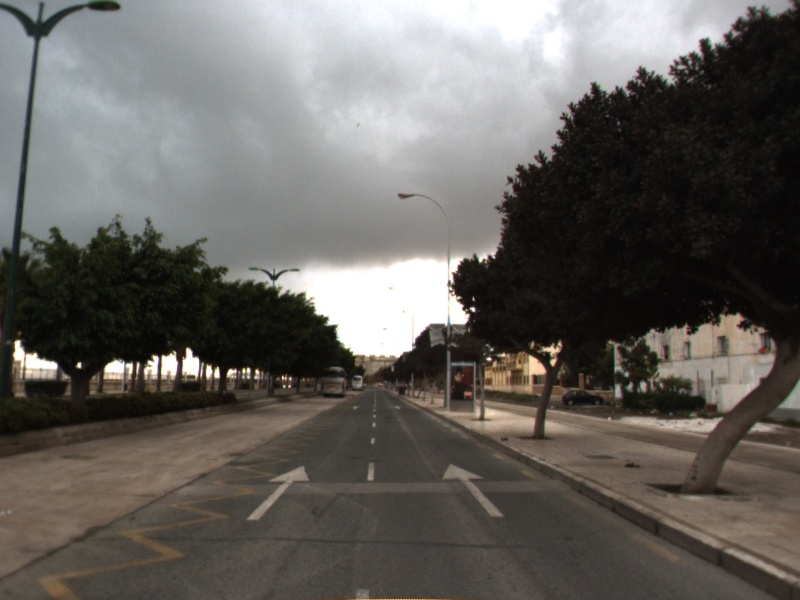STRAIGHT: (244, 463, 312, 522), (440, 461, 507, 519)
